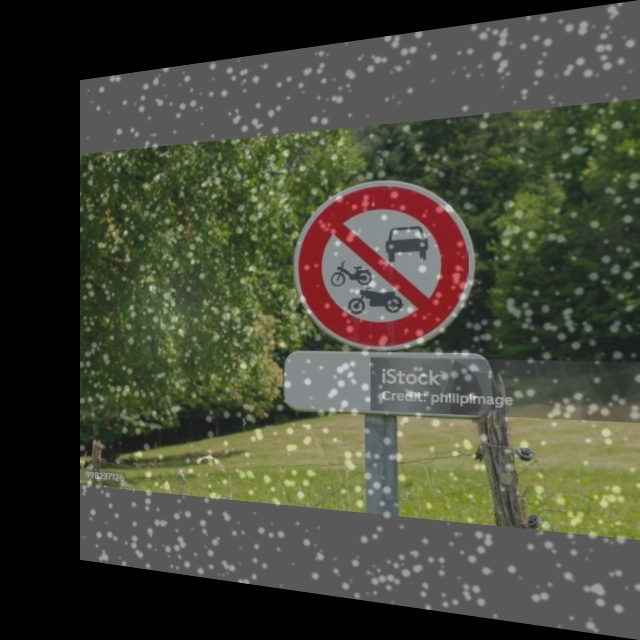All_Motor_Vehicles_Prohibited: (293, 172, 470, 352)
